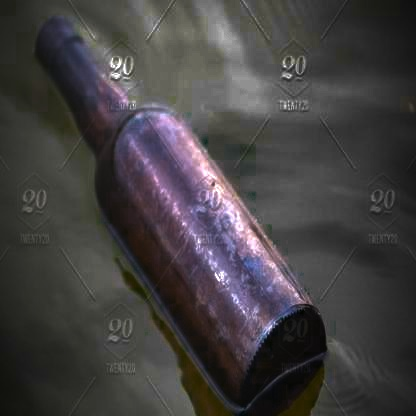gbottle: (36, 19, 327, 408)
